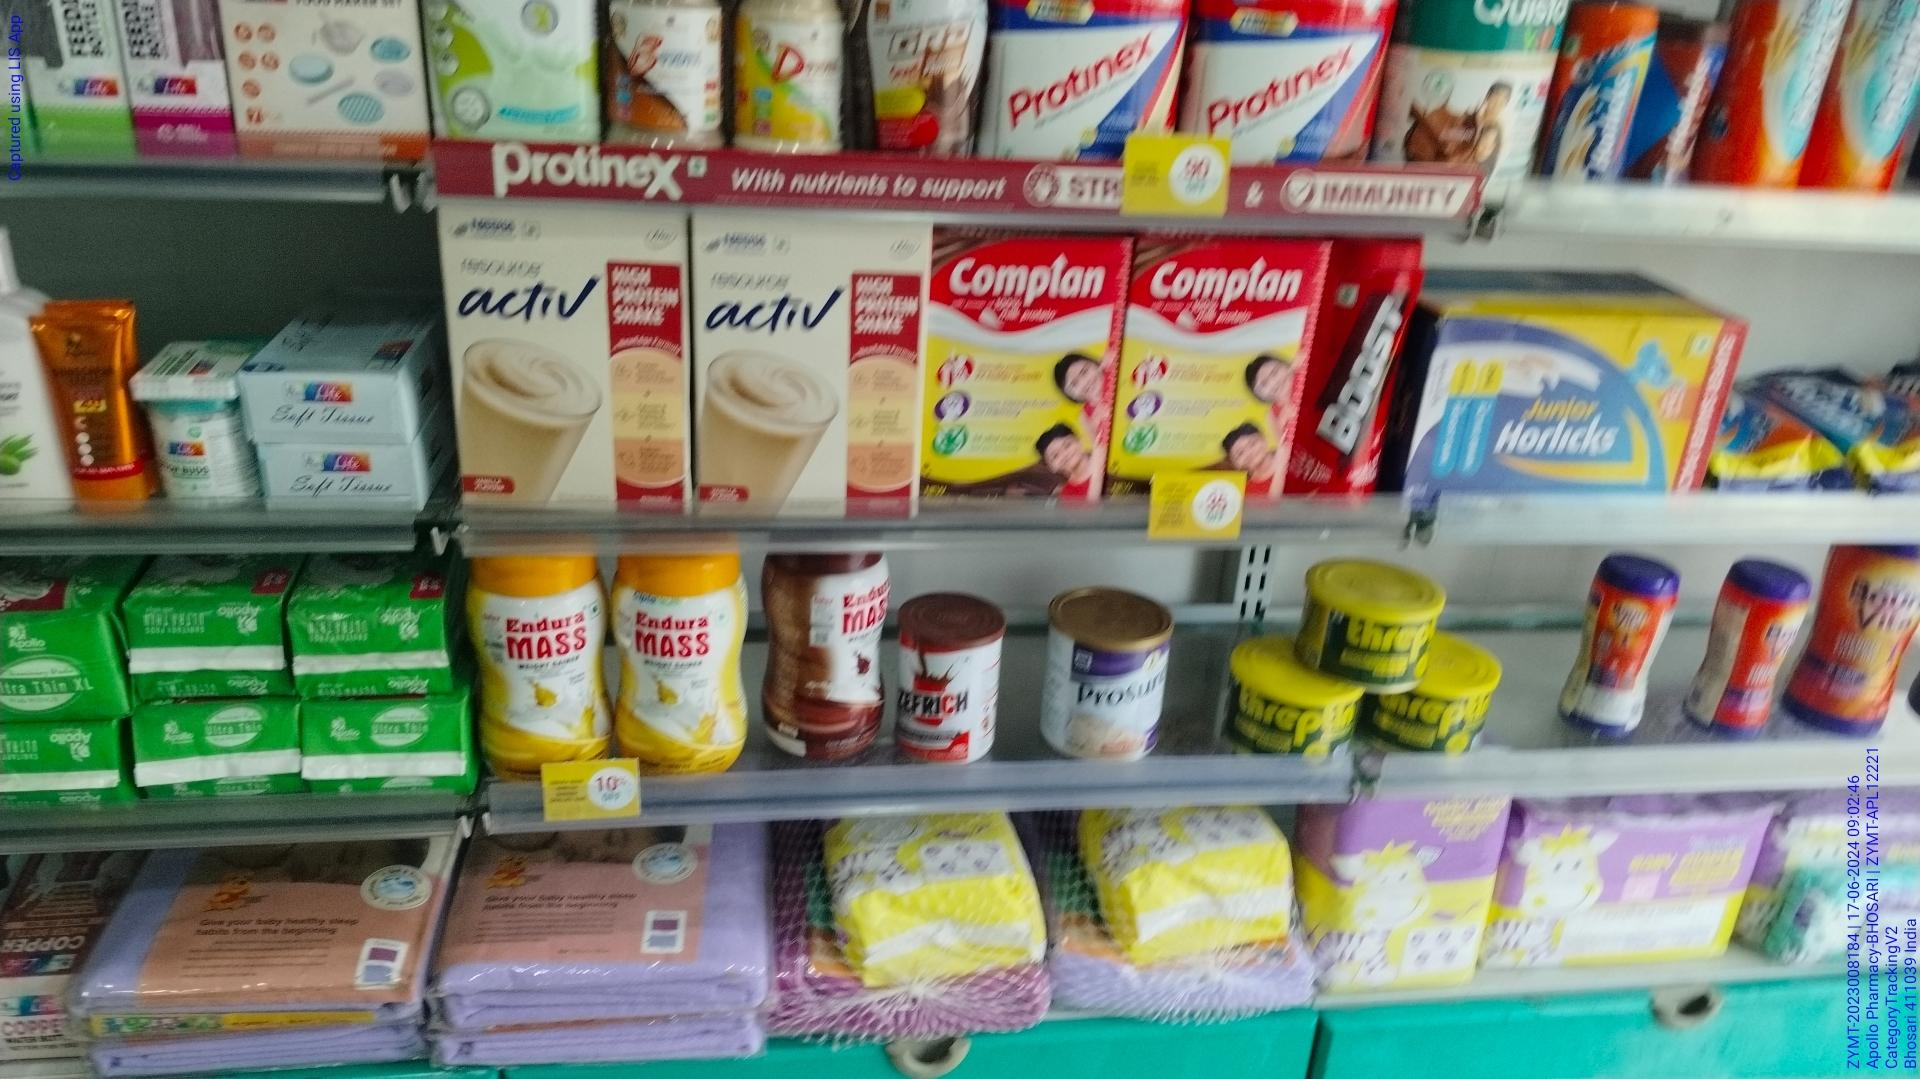COMPLAN_CHOCOLATE_500_GMS_PACK: (923, 236, 1108, 518), (1131, 243, 1308, 479)
